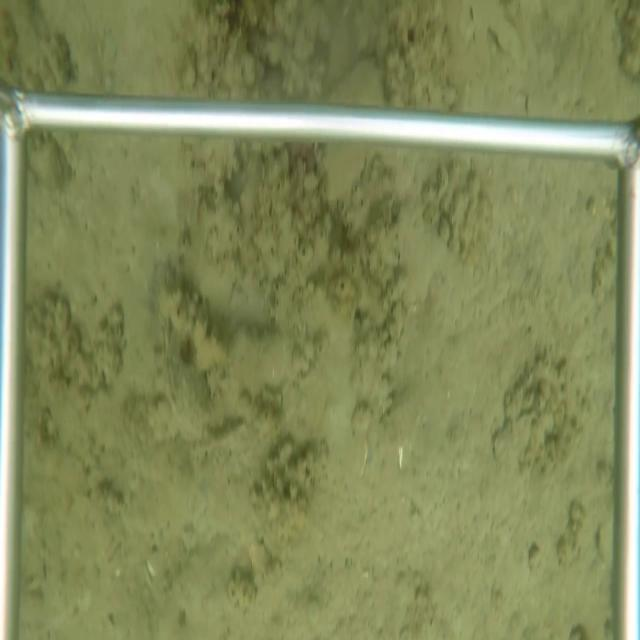Oyster-Closed: (159, 285, 259, 452)
